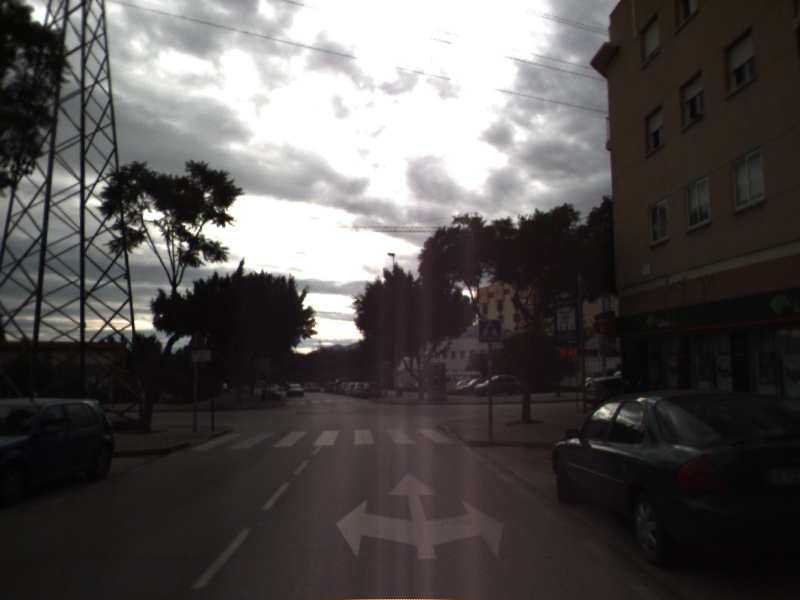STRAIGHT_LEFT_RIGHT: (333, 471, 507, 562)
